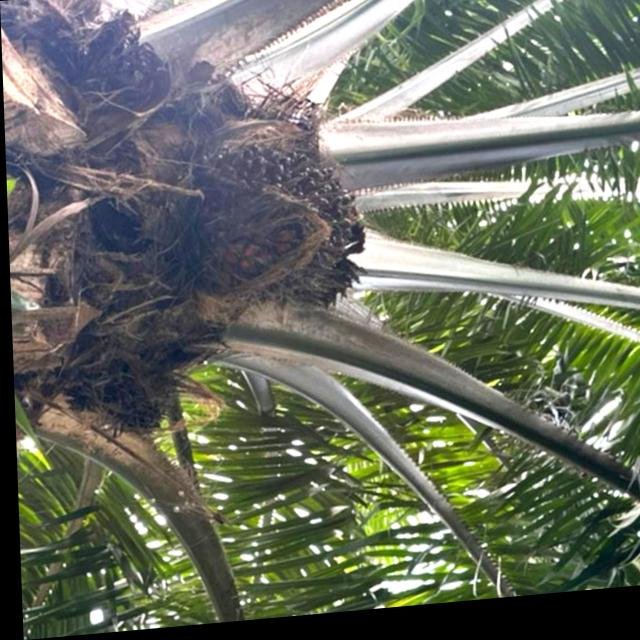ripe: (188, 133, 381, 330)
